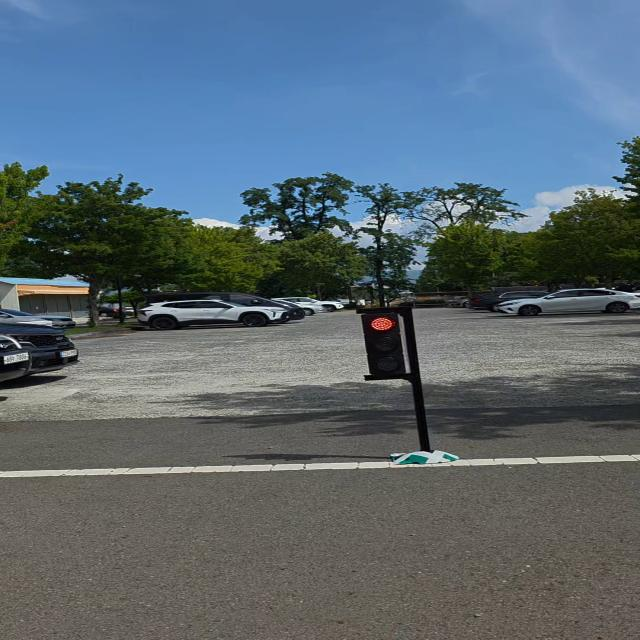red: (360, 312, 413, 378)
